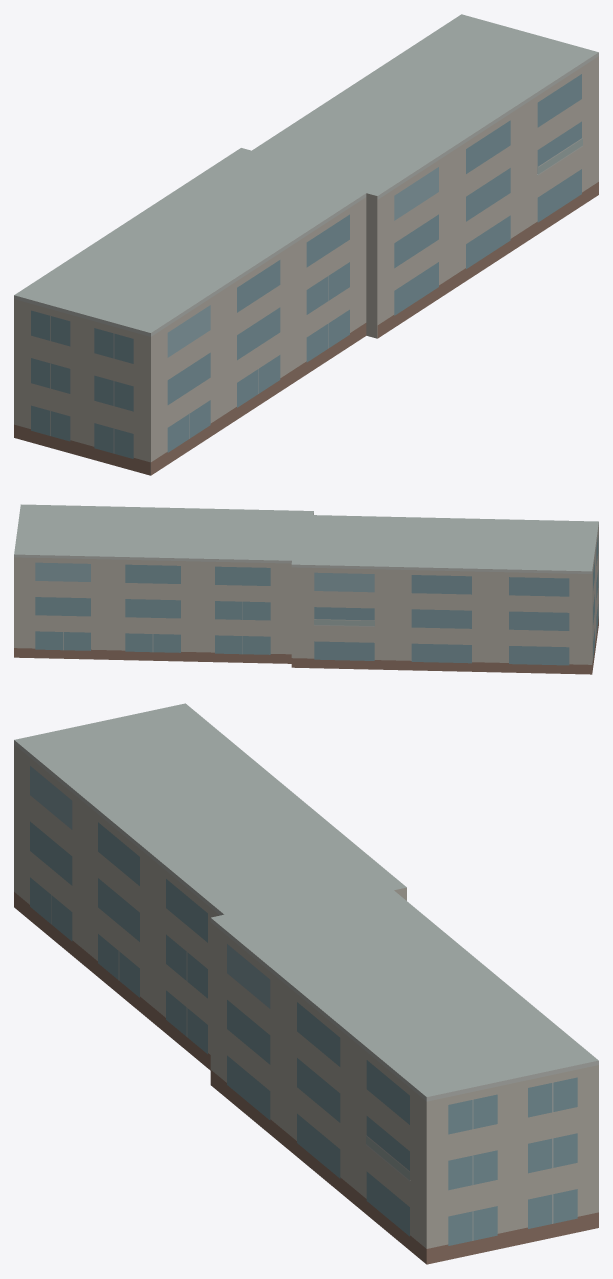
The model's file is survey-upis-33032324.glb.
The picture shows the model from 3 angles, top to bottom: view 1: azimuth 30°, elevation 25°; view 2: azimuth 150°, elevation 25°; view 3: azimuth 270°, elevation 25°; orthographic projection. The views are drawn at different scales.
Parts seen in each view (by area): view 1: survey-upis-33032324.tmp; view 2: survey-upis-33032324.tmp; view 3: survey-upis-33032324.tmp.
Part boxes in pixels (box(x1,y1,x2,y2)): survey-upis-33032324.tmp: box(14, 14, 598, 475); survey-upis-33032324.tmp: box(14, 504, 598, 674); survey-upis-33032324.tmp: box(14, 703, 598, 1264).
Bounding box in the file's own units: 46.18 × 9.15 × 28.98.
